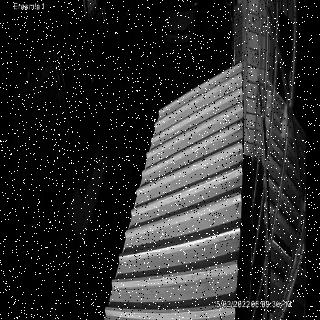car: (162, 0, 200, 49)
